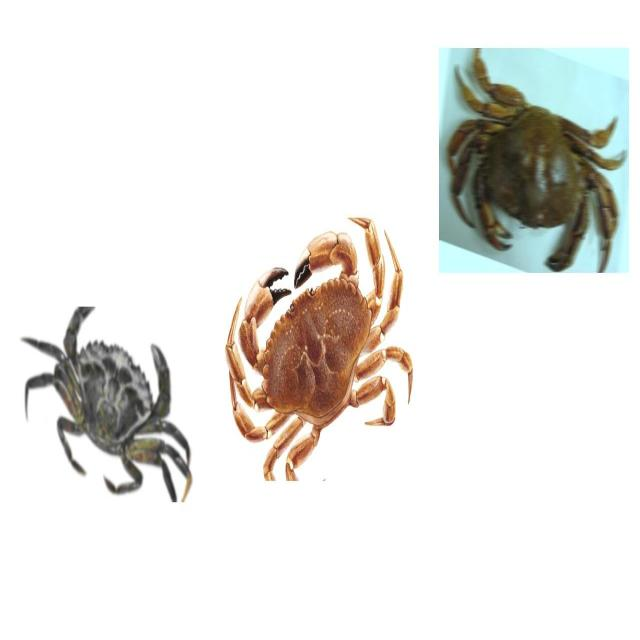egc: (20, 306, 192, 504)
